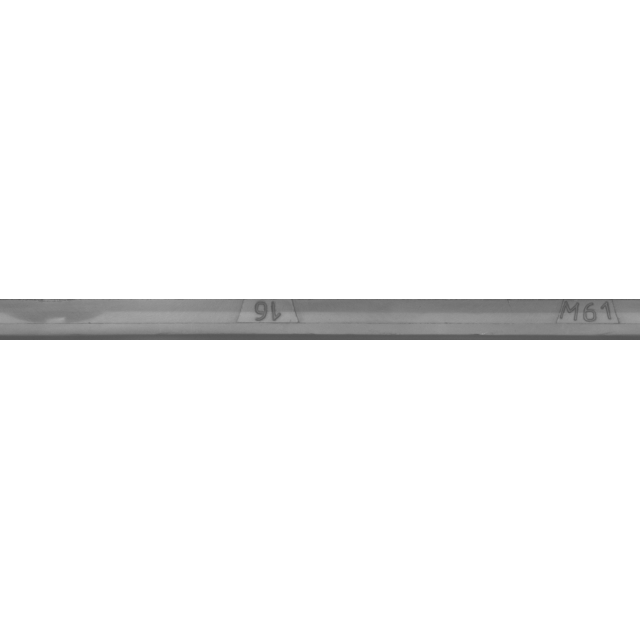mohao: (484, 270, 640, 370)
xuehao: (180, 270, 380, 370)
